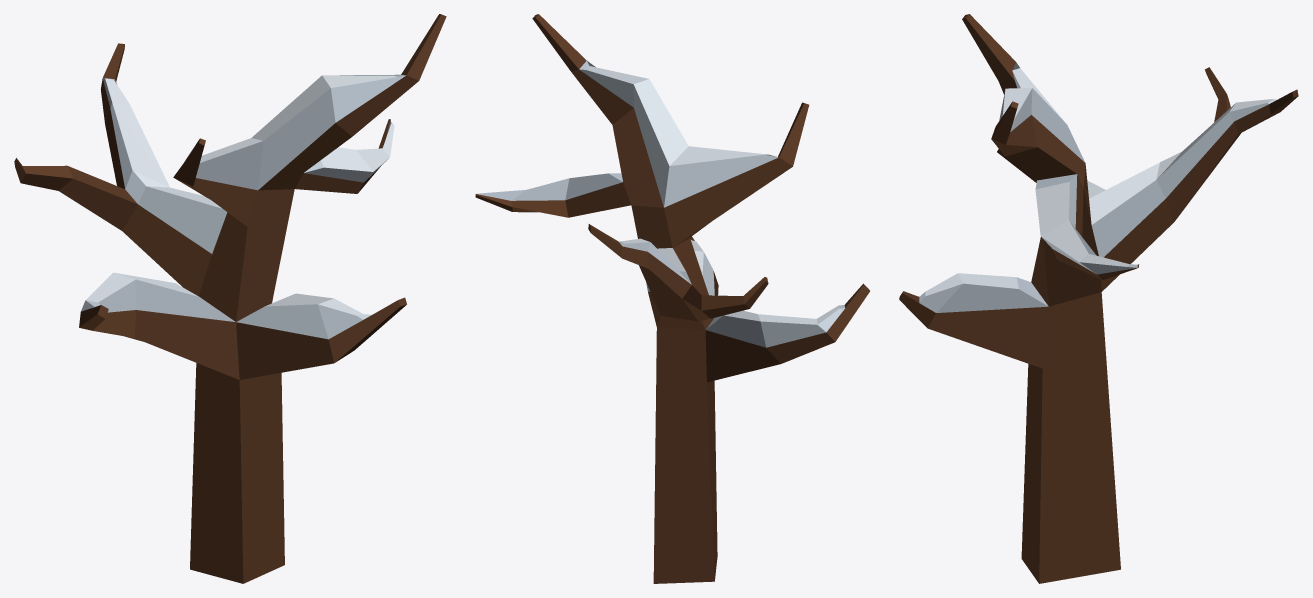
The model's file is TreeWinter2_Alt1.fbx.
The picture shows the model from 3 angles, left to right: view 1: azimuth 30°, elevation 25°; view 2: azimuth 150°, elevation 25°; view 3: azimuth 270°, elevation 25°; orthographic projection. The views are drawn at different scales.
Parts seen in each view (by area): view 1: TreeWinter2_Alt1; view 2: TreeWinter2_Alt1; view 3: TreeWinter2_Alt1.
Part boxes in pixels (bbox=[...]): TreeWinter2_Alt1: bbox=[14, 14, 446, 583]; TreeWinter2_Alt1: bbox=[475, 14, 869, 583]; TreeWinter2_Alt1: bbox=[899, 14, 1298, 583].
Bounding box in the file's own units: 1.31 × 1.84 × 1.19.
